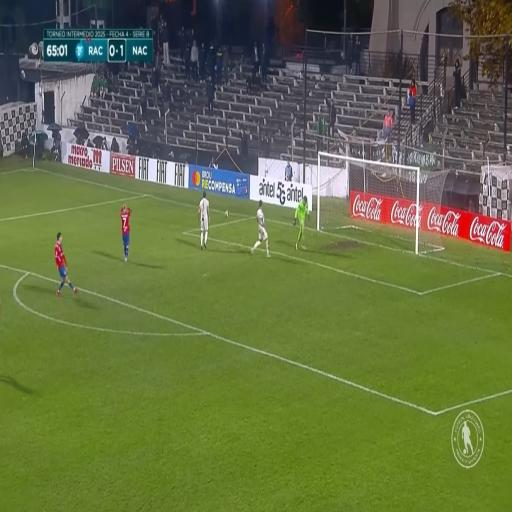Ball: (224, 210, 228, 219)
Goalkeeper: (294, 196, 308, 247)
Player: (55, 232, 73, 296), (198, 192, 210, 254), (122, 198, 130, 268), (256, 201, 267, 251)
